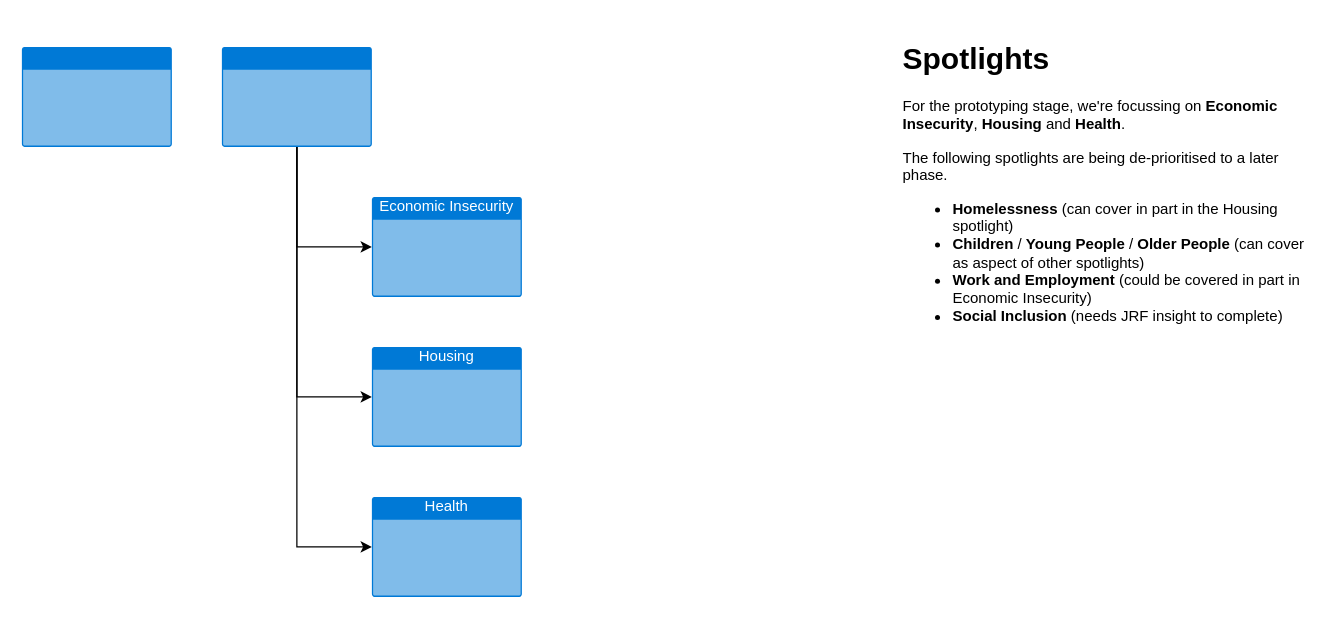
This 1330x618 diagram has some shape labels left out. The shapes that lost their labels are listed below. From the top down, each one's centre as x and y in pixels, then its label:
At (x=96, y=96): "Place".
At (x=296, y=96): "Spotlights".
